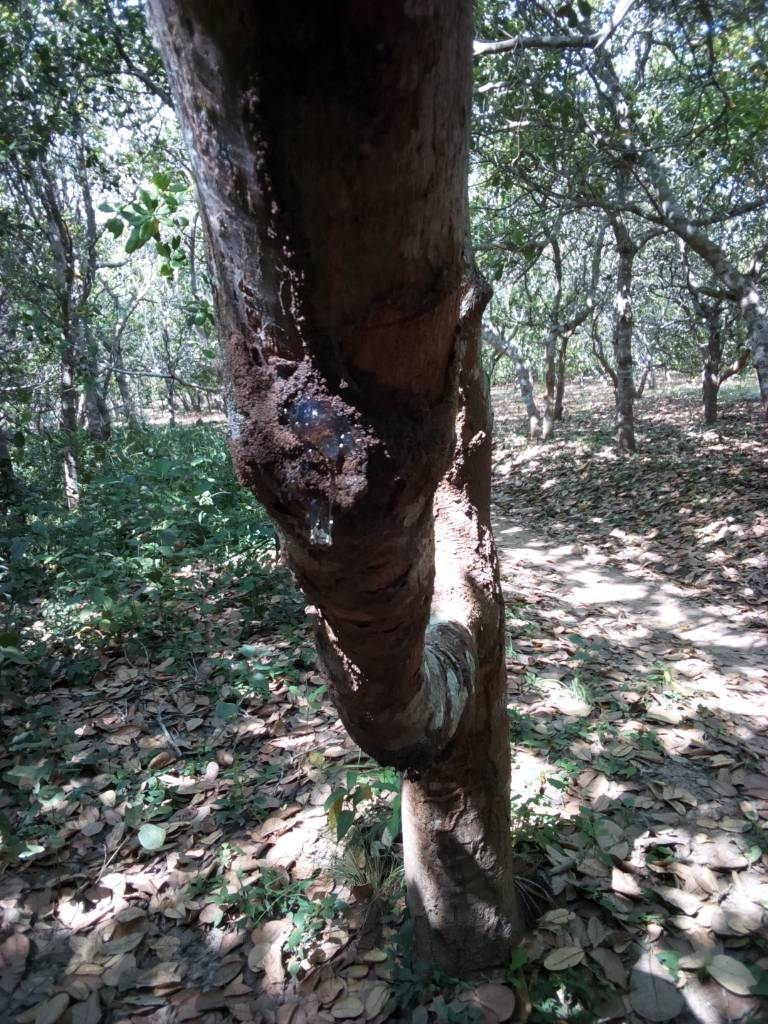Termites: (224, 13, 465, 708)
